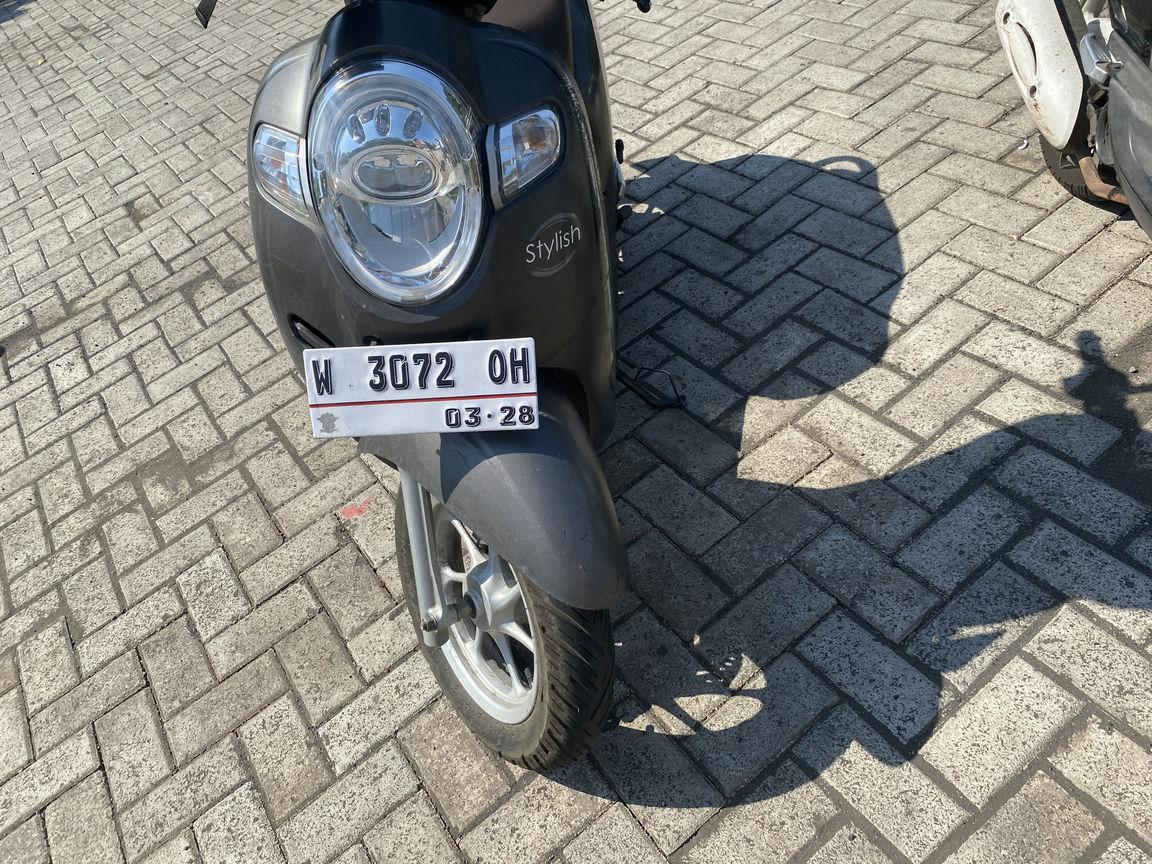plat: (304, 338, 540, 439)
